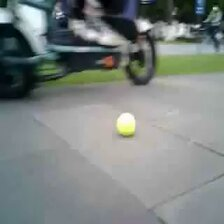tennis: (116, 112, 137, 136)
